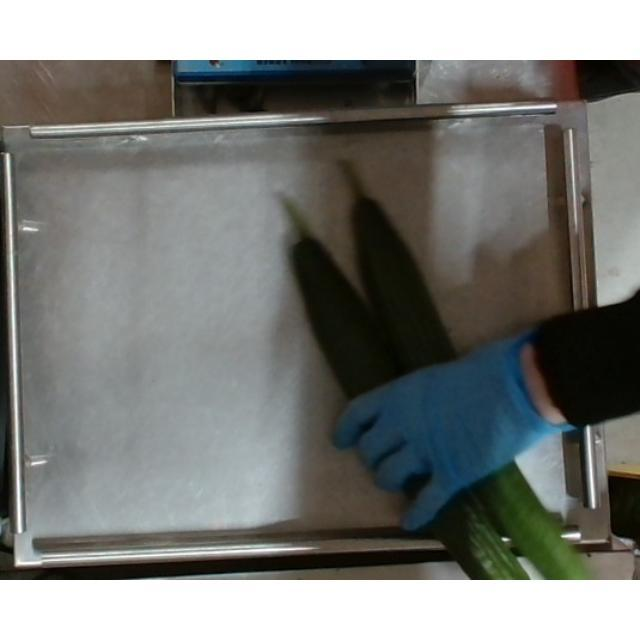cucumber: (258, 180, 530, 580), (341, 154, 591, 580)
